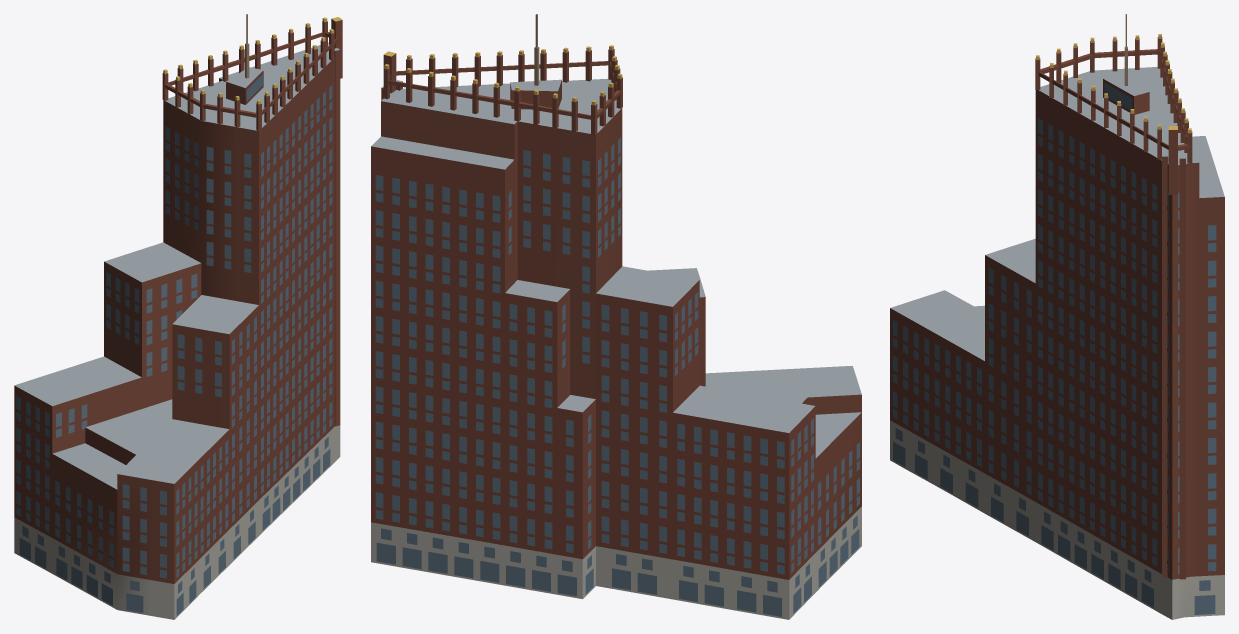
File: berlin-kollhoff-tower.glb
3 renders of one model, left to right at view 1: azimuth 30°, elevation 25°; view 2: azimuth 150°, elevation 25°; view 3: azimuth 270°, elevation 25°, orthographic. The views are drawn at different scales.
Visible parts, largest first — view 1: Kollhoff-Tower; view 2: Kollhoff-Tower; view 3: Kollhoff-Tower.
Boxes of the visible parts, x1,y1,x2,y2 form: Kollhoff-Tower: (14, 14, 342, 619); Kollhoff-Tower: (371, 14, 861, 619); Kollhoff-Tower: (890, 14, 1224, 619).
Bounding box in the file's own units: 85.41 × 115 × 64.2.
